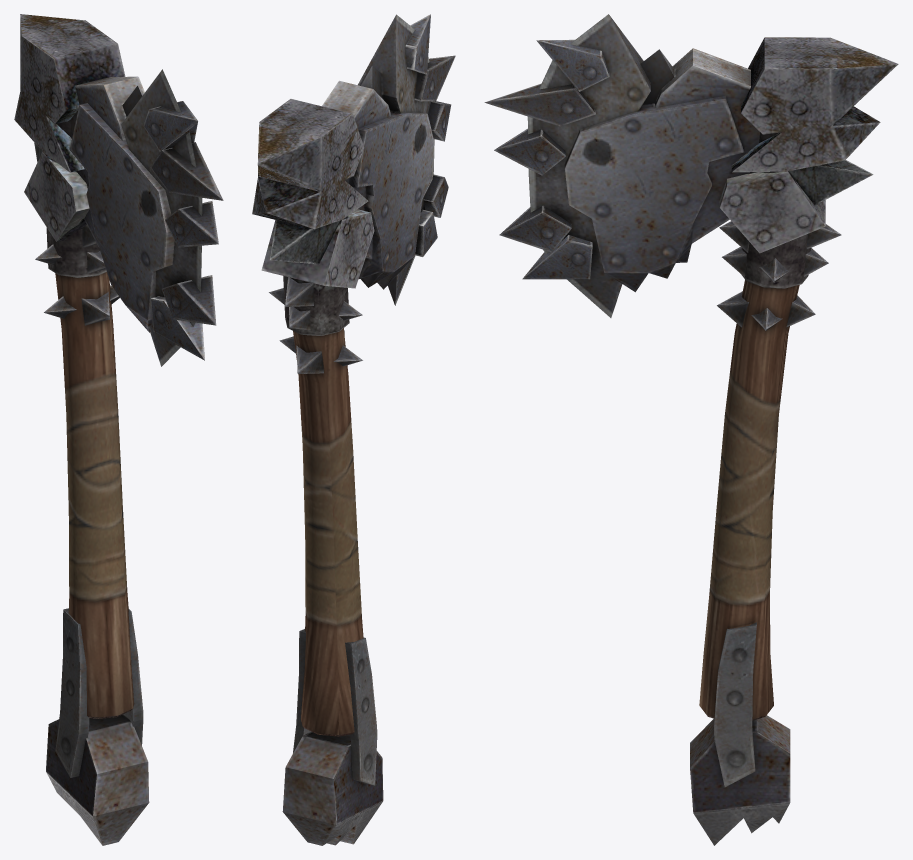
The model's file is Axe.fbx.
3 views of the same model, side by side, from view 1: azimuth 30°, elevation 25°; view 2: azimuth 150°, elevation 25°; view 3: azimuth 270°, elevation 25° (orthographic). The views are drawn at different scales.
Visible parts, largest first — view 1: Axe; view 2: Axe; view 3: Axe.
Boxes of the visible parts, left/top/right/bottom form: Axe: left=14, top=14, right=223, bottom=845; Axe: left=252, top=14, right=455, bottom=845; Axe: left=484, top=14, right=898, bottom=845.
Size of the model in its own units: 117 by 942 by 428.
